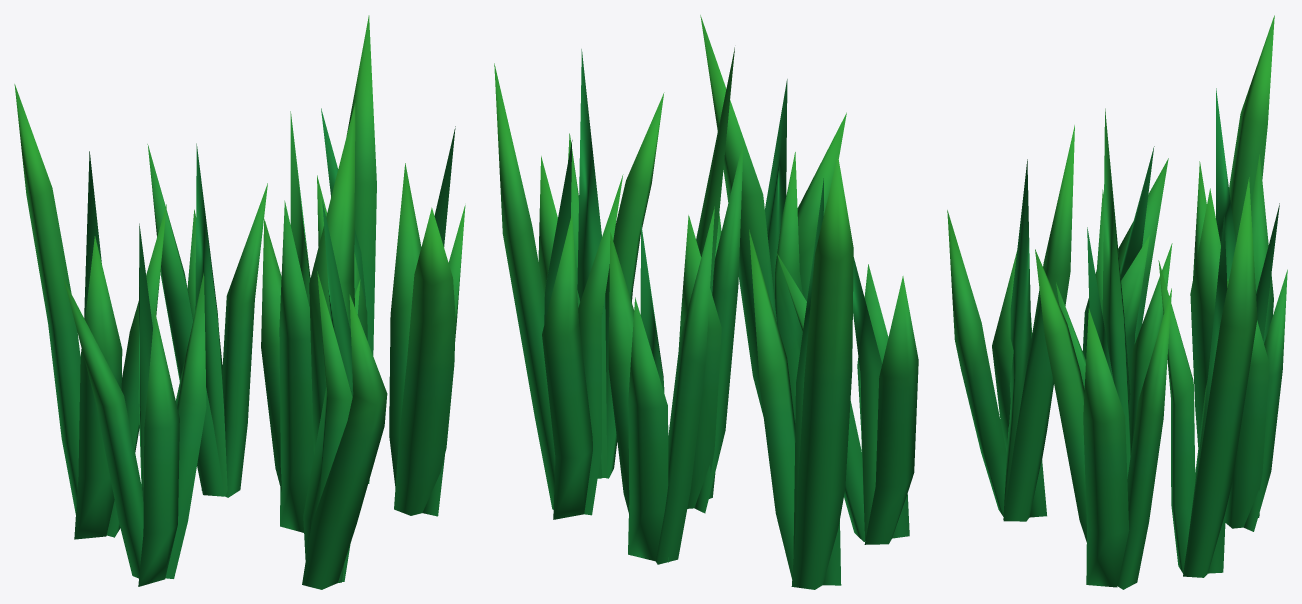
The model's file is Plant_2_A_1.fbx.
3 renders of one model, left to right at view 1: azimuth 30°, elevation 25°; view 2: azimuth 150°, elevation 25°; view 3: azimuth 270°, elevation 25°, orthographic. The views are drawn at different scales.
Parts seen in each view (by area): view 1: Plant_2_A_1; view 2: Plant_2_A_1; view 3: Plant_2_A_1.
Part boxes in pixels (x1,y1,x2,y2): Plant_2_A_1: (14,15,465,589); Plant_2_A_1: (494,15,918,589); Plant_2_A_1: (947,15,1287,589).
Size of the model in its own units: 16.01 by 18.74 by 13.77.
